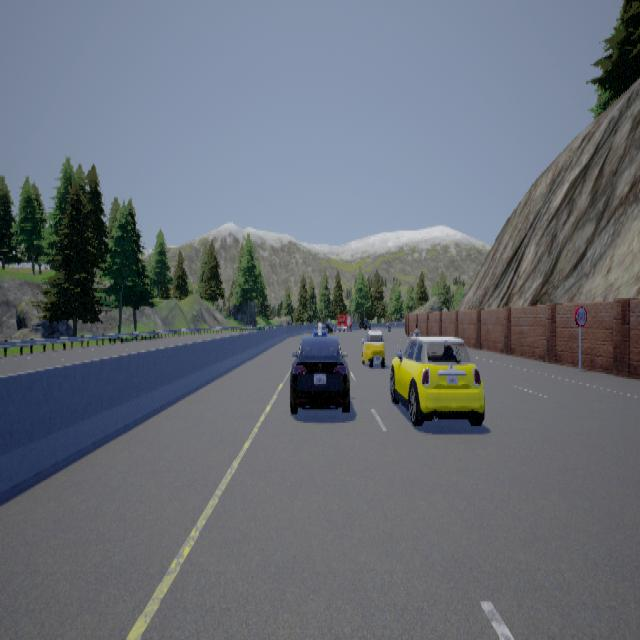traffic_sign: (574, 305, 586, 325)
vehicle: (389, 332, 484, 424), (289, 320, 349, 413), (358, 317, 384, 367)
